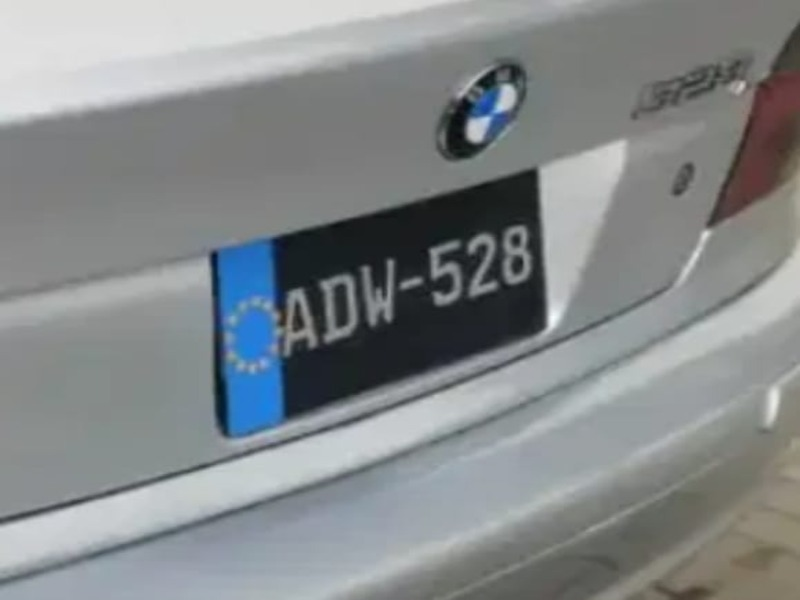License Plate: (210, 167, 552, 439)
